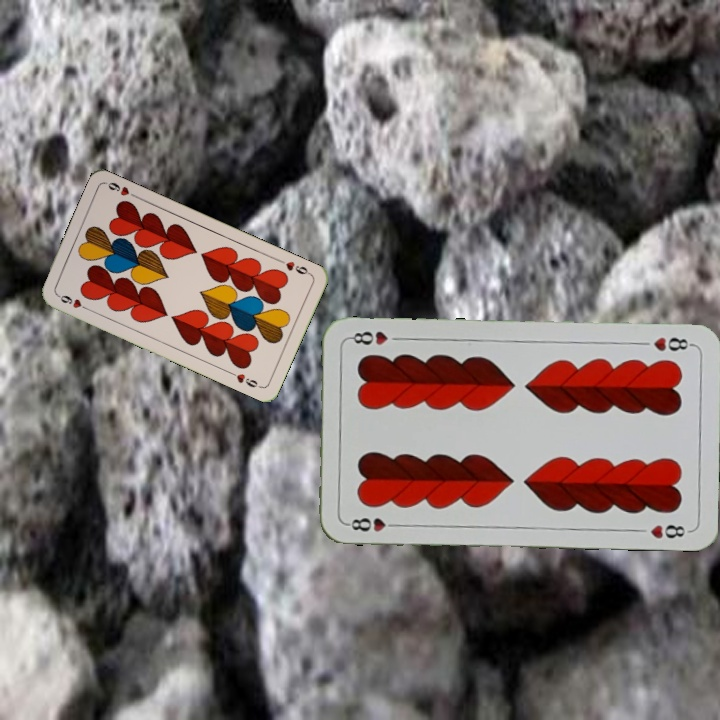H8: (343, 514, 402, 535), (649, 333, 695, 354)
H9: (275, 255, 314, 278), (53, 290, 92, 313)
